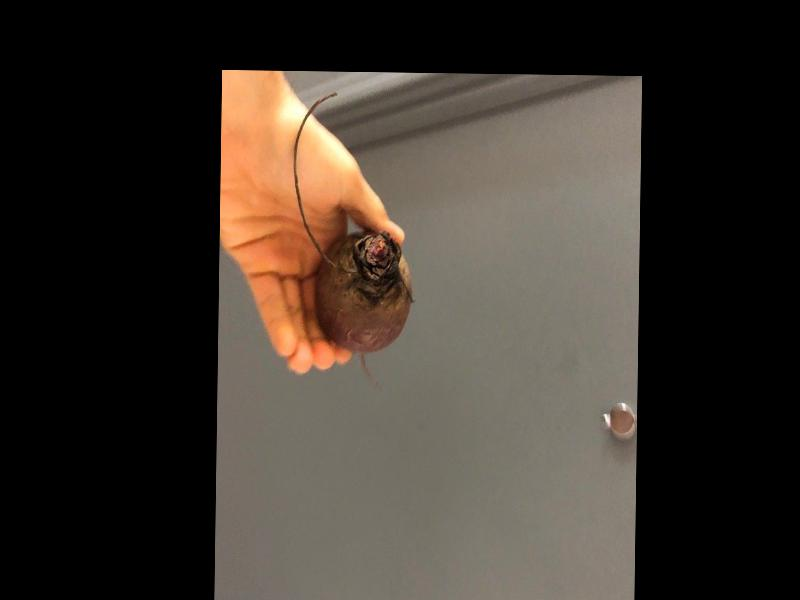Beet: (288, 94, 414, 387)
